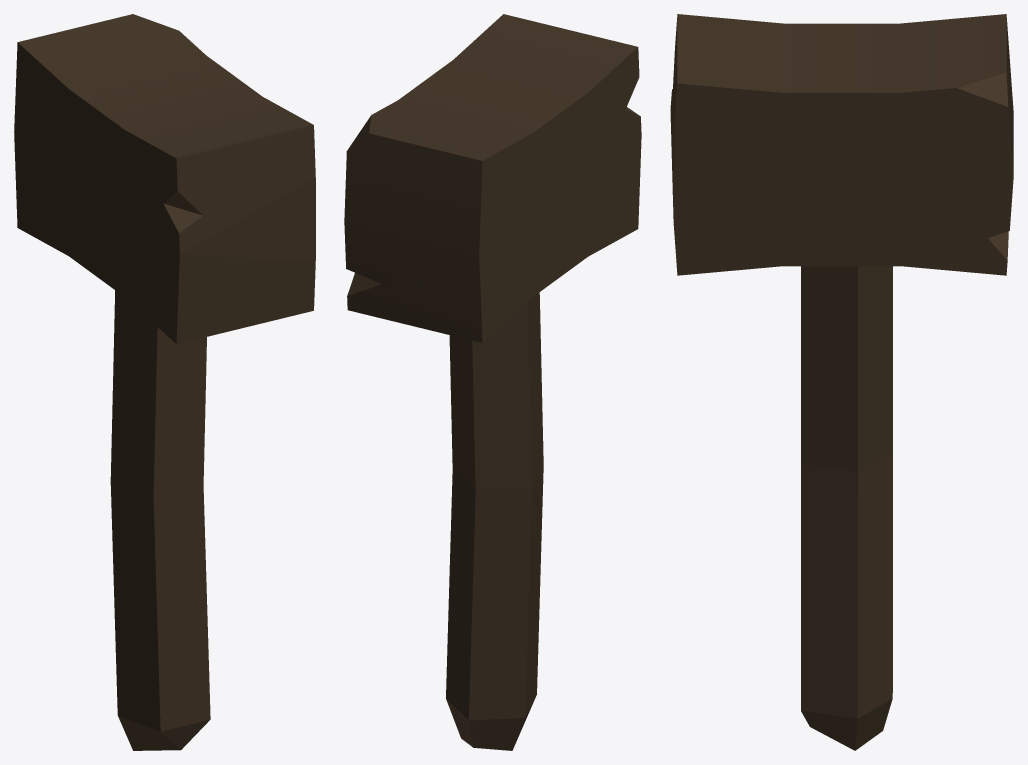
File: HammerC.fbx
3 renders of one model, left to right at view 1: azimuth 30°, elevation 25°; view 2: azimuth 150°, elevation 25°; view 3: azimuth 270°, elevation 25°, orthographic. The views are drawn at different scales.
Visible parts, largest first — view 1: HammerC; view 2: HammerC; view 3: HammerC.
Boxes of the visible parts, x1,y1,x2,y2 form: HammerC: (14,14,315,750); HammerC: (344,14,641,750); HammerC: (670,14,1013,750).
Size of the model in its own units: 9.02 by 41.7 by 18.82.
